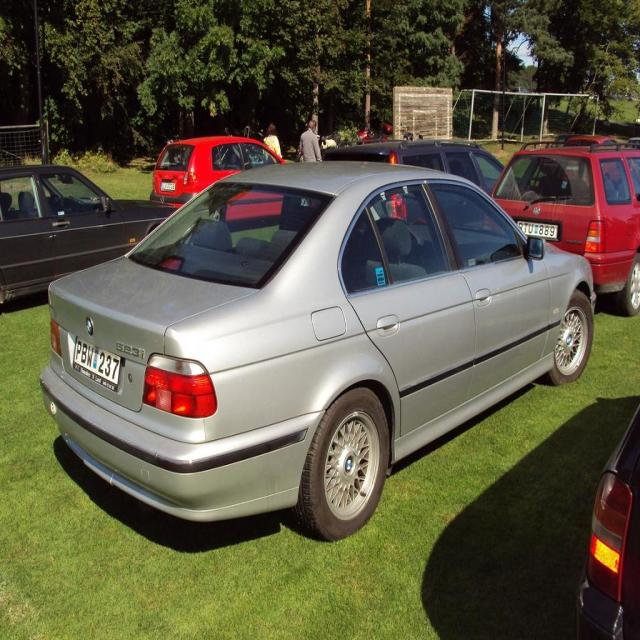car: (33, 151, 595, 545)
